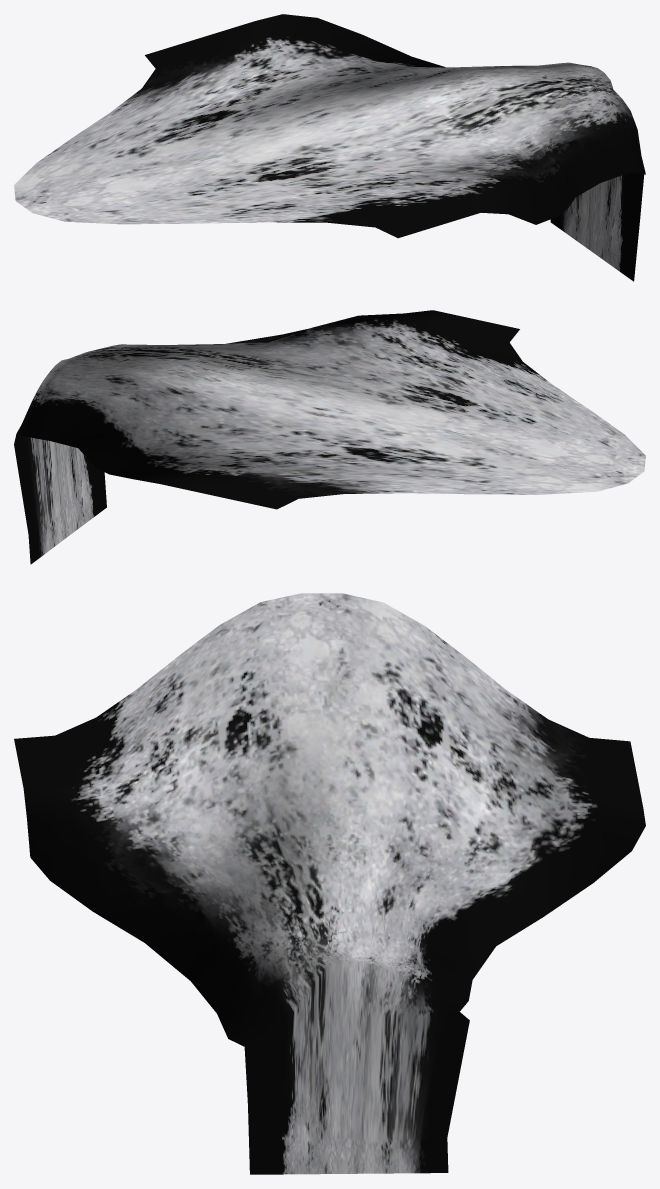
Rendered from waterfalls_set1_med_hat.obj.
3 views of the same model, one above another, from view 1: azimuth 30°, elevation 25°; view 2: azimuth 150°, elevation 25°; view 3: azimuth 270°, elevation 25° (orthographic). The views are drawn at different scales.
Visible parts, largest first — view 1: waterfalls_set1_med_hat; view 2: waterfalls_set1_med_hat; view 3: waterfalls_set1_med_hat.
Part boxes in pixels (x1,y1,x2,y2): waterfalls_set1_med_hat: [14, 14, 645, 281]; waterfalls_set1_med_hat: [14, 310, 645, 564]; waterfalls_set1_med_hat: [14, 593, 645, 1174].
Bounding box in the file's own units: 53.05 × 17.37 × 40.49.
1 material, 1 textured.
